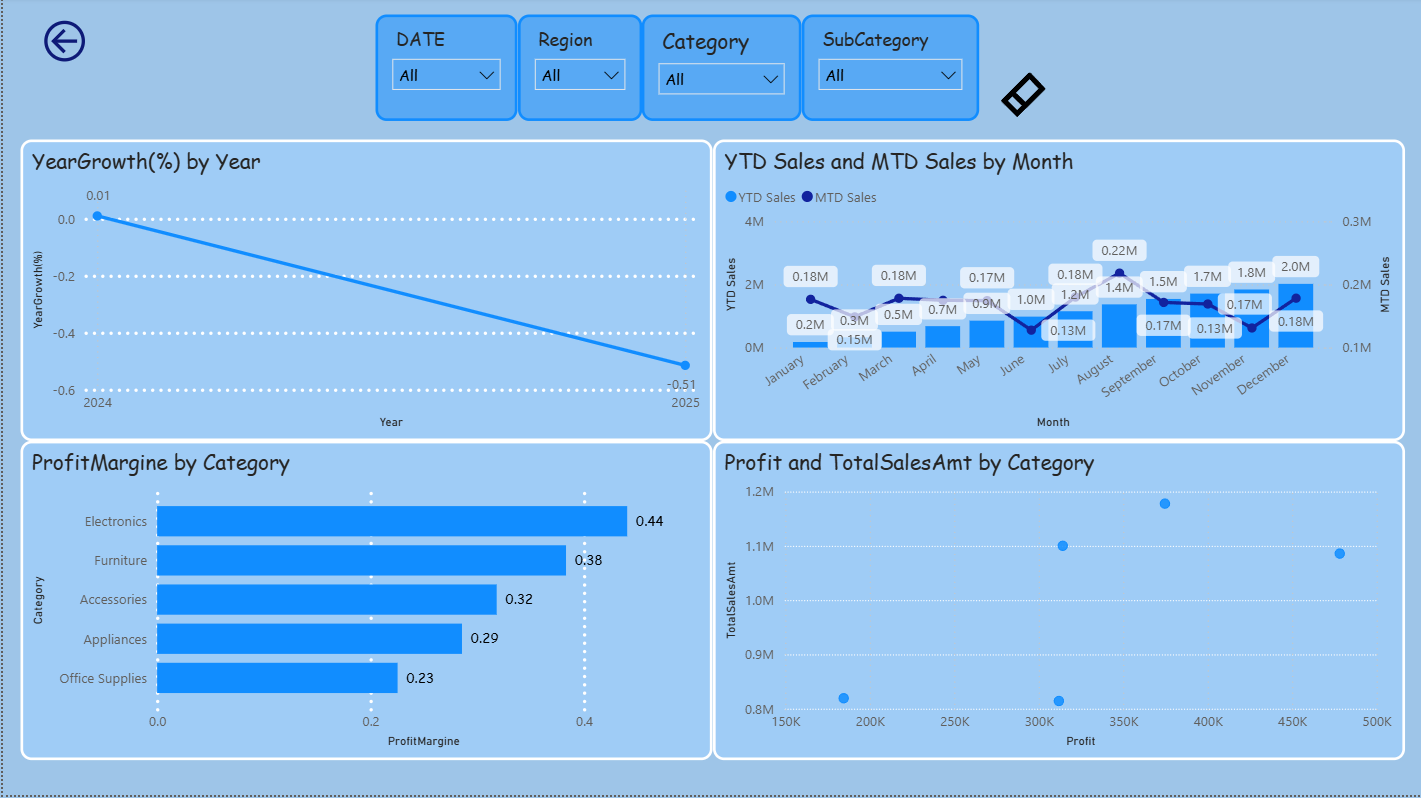

This screenshot's page, from the dashboard's own definition file:
{"tool":"powerbi","page":{"name":"SALES GROWTH ANALYSIS","canvas":[1280,720],"ordinal":3},"visuals":[{"type":"group","id":"g1","title":"Group 1","box":[336,16,544,96],"z":0},{"type":"slicer","fields":{"Values":["Calender.Date.Variation.Date Hierarchy.Year","Calender.Date.Variation.Date Hierarchy.Quarter","Calender.Date.Variation.Date Hierarchy.Month","Calender.Date.Variation.Date Hierarchy.Day"]},"box":[336,16,128,96],"z":0,"group":"g1"},{"type":"slicer","fields":{"Values":["DimProduct.Region"]},"box":[464,16,112,96],"z":1000,"group":"g1"},{"type":"lineChart","fields":{"Y":["DimProduct.YearGrowth(%)"],"Category":["Calender.Date.Variation.Date Hierarchy.Year"]},"box":[16,128,624,272],"z":1000},{"type":"slicer","fields":{"Values":["DimProduct.Category"]},"box":[576,16,144,96],"z":2000,"group":"g1"},{"type":"lineStackedColumnComboChart","fields":{"Category":["Calender.Date.Variation.Date Hierarchy.Month"],"Y2":["Calender.MTD Sales"],"Y":["Calender.YTD Sales"]},"box":[640,128,624,272],"z":2000},{"type":"slicer","fields":{"Values":["DimProduct.SubCategory"]},"box":[720,16,160,96],"z":3000,"group":"g1"},{"type":"clusteredBarChart","fields":{"Y":["FactSales.ProfitMargine"],"Category":["DimProduct.Category"]},"box":[16,400,624,288],"z":3000},{"type":"scatterChart","fields":{"X":["FactSales.Profit"],"Category":["DimProduct.Category"],"Y":["DimProduct.TotalSalesAmt"]},"box":[640,400,624,288],"z":4000},{"type":"actionButton","box":[32,16,48,48],"z":5000},{"type":"actionButton","box":[896,64,48,48],"z":6000}]}

Visuals, with their boxes in screenshot pixels (x1, y1, x2, y2), scaled from the page's 1280x720 canvas onto the 1421x798 screenshot:
"Group 1" group: BBox(373, 18, 977, 124)
slicer - Calender.Date.Variation.Date Hierarchy.Year x Calender.Date.Variation.Date Hierarchy.Quarter: BBox(373, 18, 515, 124)
slicer - DimProduct.Region: BBox(515, 18, 639, 124)
lineChart - DimProduct.YearGrowth(%) x Calender.Date.Variation.Date Hierarchy.Year: BBox(18, 142, 710, 443)
slicer - DimProduct.Category: BBox(639, 18, 799, 124)
lineStackedColumnComboChart - Calender.Date.Variation.Date Hierarchy.Month x Calender.MTD Sales: BBox(710, 142, 1403, 443)
slicer - DimProduct.SubCategory: BBox(799, 18, 977, 124)
clusteredBarChart - FactSales.ProfitMargine x DimProduct.Category: BBox(18, 443, 710, 763)
scatterChart - FactSales.Profit x DimProduct.Category: BBox(710, 443, 1403, 763)
actionButton: BBox(36, 18, 89, 71)
actionButton: BBox(995, 71, 1048, 124)
